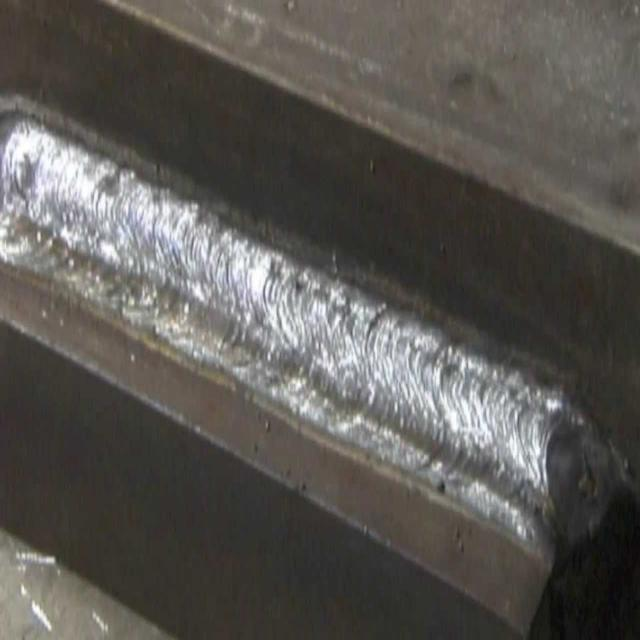Good Welding: (234, 251, 500, 472), (1, 113, 220, 289)
